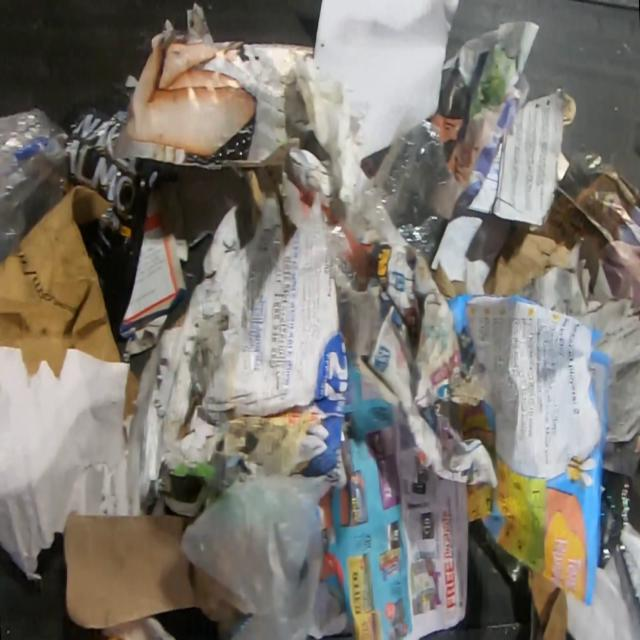cardboard: (444, 293, 616, 608), (0, 185, 123, 381), (62, 512, 250, 629), (119, 161, 190, 364), (481, 218, 575, 296), (523, 564, 571, 640), (231, 167, 282, 235), (123, 368, 139, 420)
rigid_plastic: (598, 474, 640, 638)
soft_plastic: (177, 473, 349, 640), (58, 100, 160, 342), (361, 117, 463, 270), (0, 110, 71, 268), (322, 222, 359, 300)
